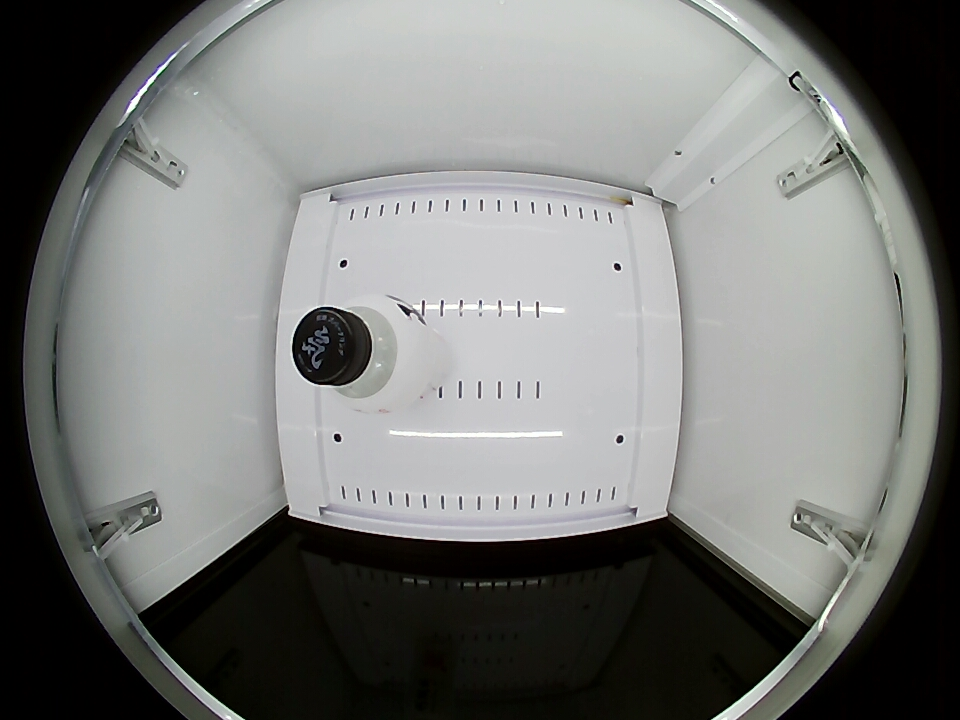yuanqishui: (293, 298, 420, 409)
